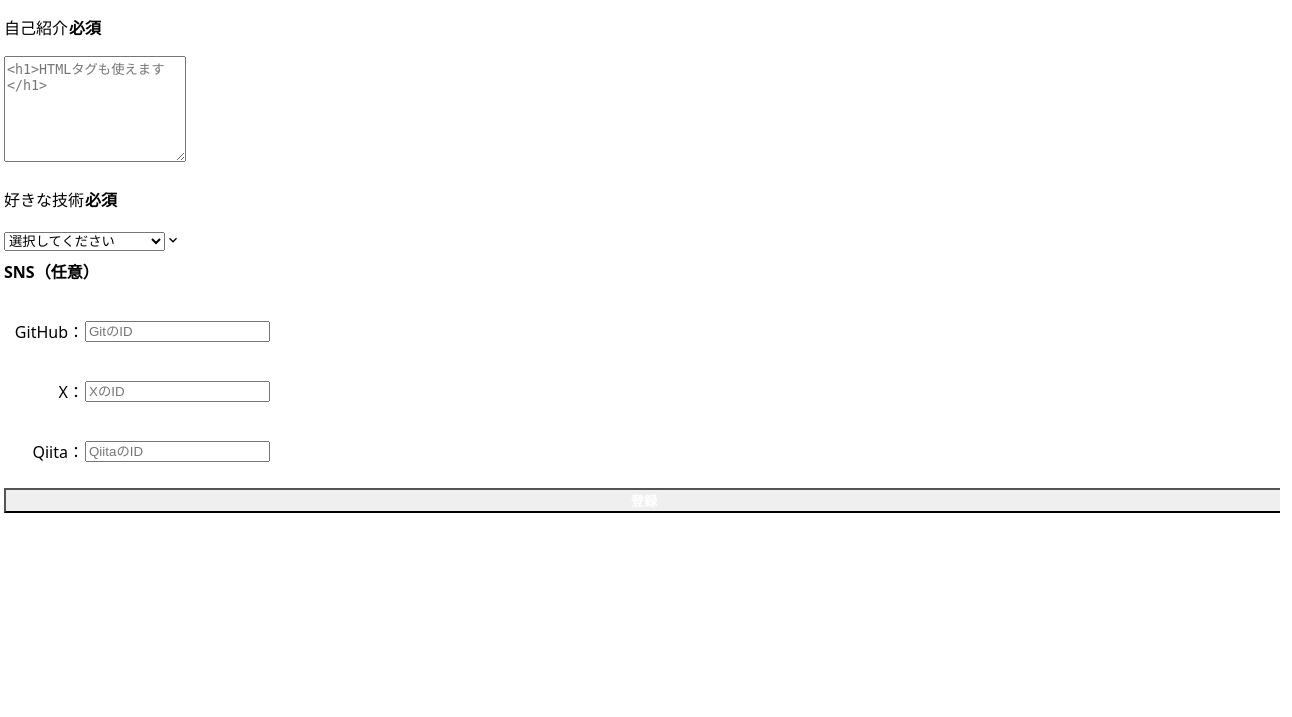
Test: 名刺カードのテスト › スキルの選択がないときにエラーメッセージがでる
(page scrolled)
Click the button with test id "registerSubmitButton": [642, 500] box [4, 488, 1280, 513]
(page scrolled)
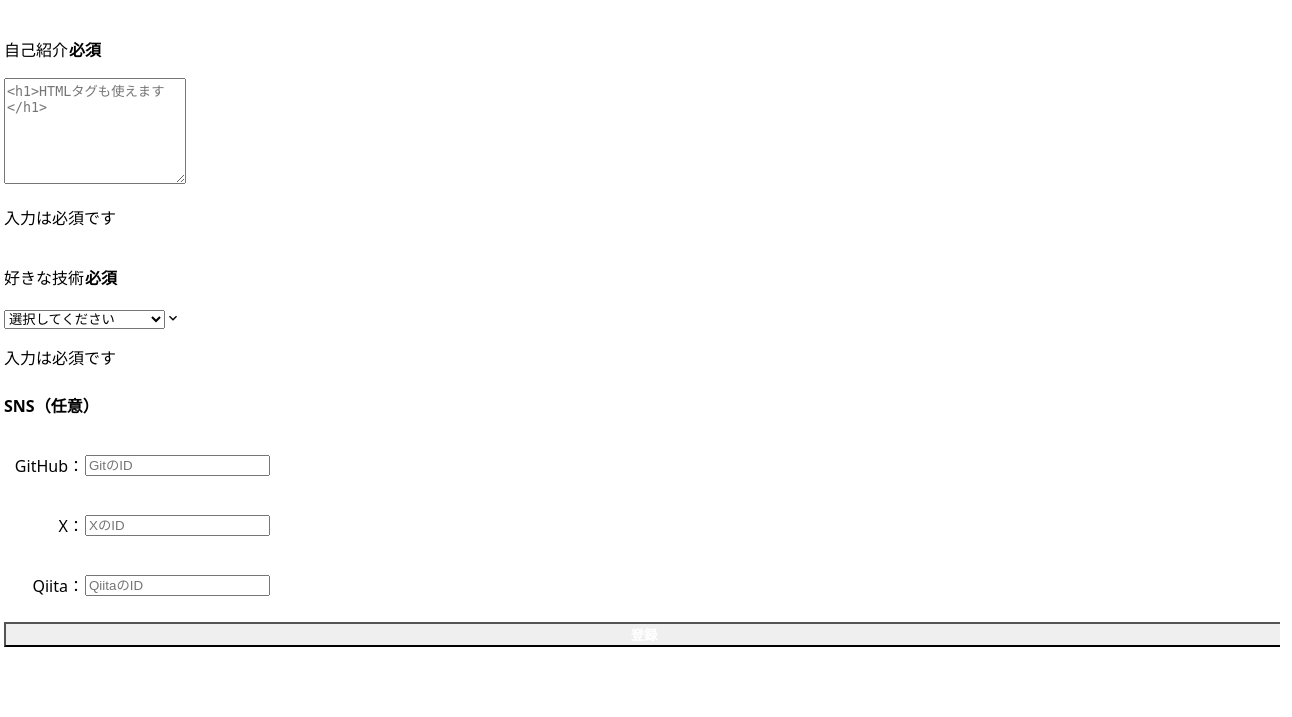
Expected: the text with test id "skillError" is shown, [4, 347, 116, 369]
